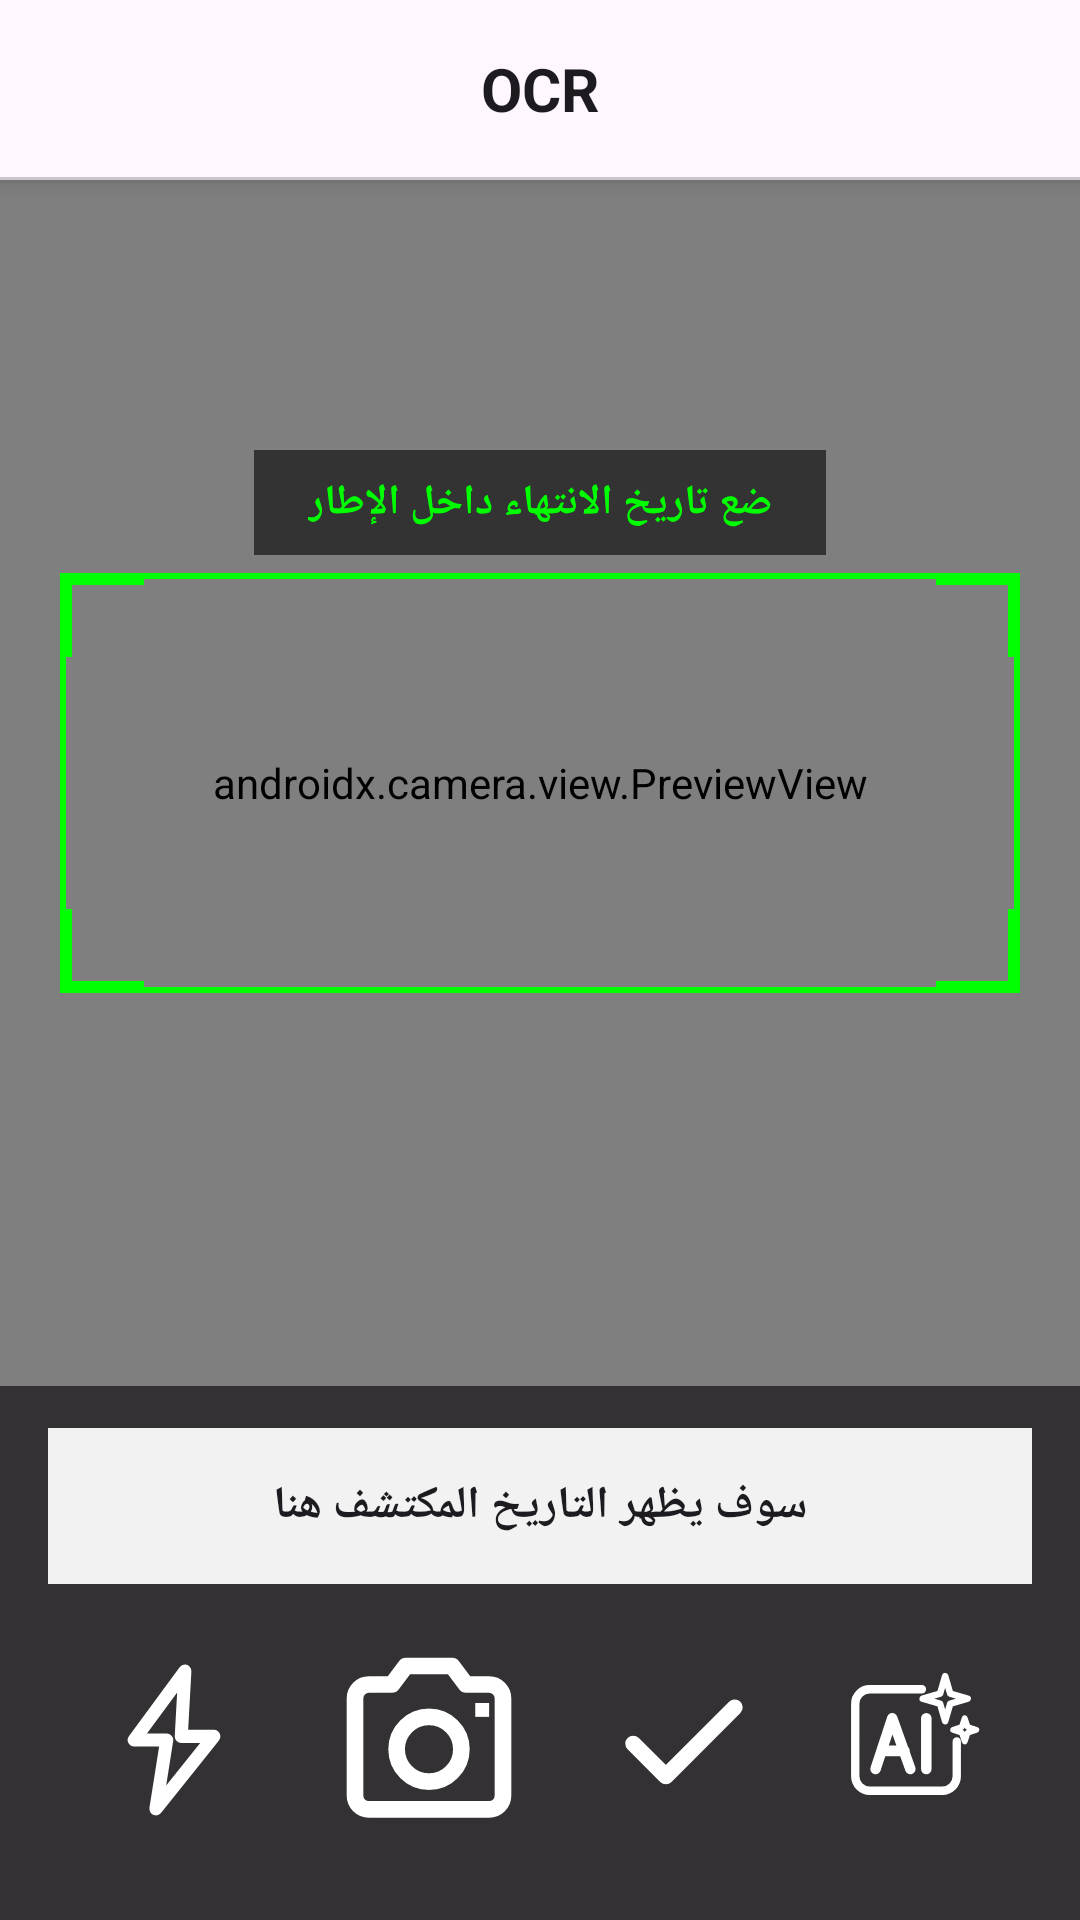

Screen size 1080×1920. Icon name, then its box in pixels as (x1=x1, y1=y1, x2=x2, y2=y2):
التعرف بالذكاء الاصطناعي: (x1=851, y1=1673, x2=980, y2=1795)
التقاط صورة: (x1=346, y1=1657, x2=512, y2=1818)
تشغيل الفلاش: (x1=127, y1=1664, x2=221, y2=1816)
